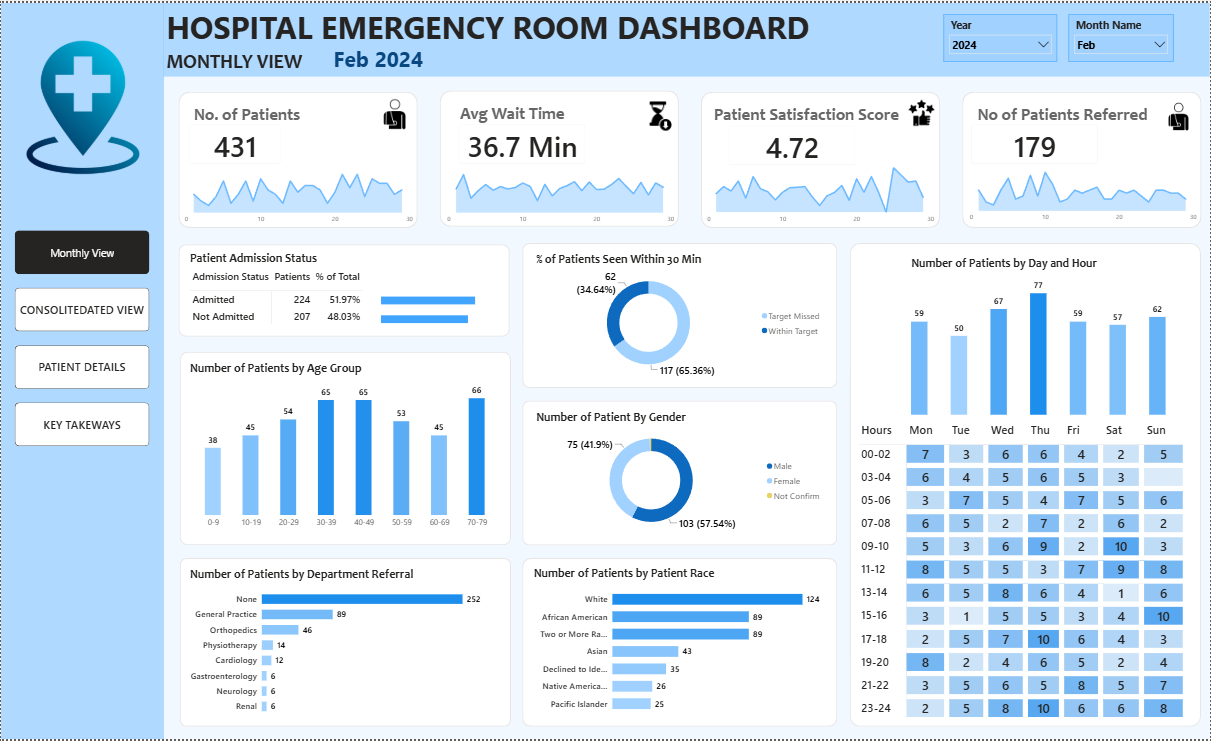

Layout of this report page (visuals, bound fields, positions):
{"tool":"powerbi","page":{"name":"Monthly View","canvas":[2300,1400],"ordinal":0},"visuals":[{"type":"shape","box":[0,0,310,1400.5],"z":0},{"type":"shape","box":[309.1,0,1990.2,140],"z":1000},{"type":"textbox","box":[309.1,0,1245.9,88],"z":2000},{"type":"textbox","box":[309.1,83.2,271.1,57.1],"z":3000},{"type":"shape","box":[337.6,168.8,455,259.2],"z":4000},{"type":"cardVisual","fields":{"Data":["Hospital data.Number of Patients"]},"box":[340,214,209.2,109.4],"z":5000},{"type":"slicer","fields":{"Values":["Date Table.Year"]},"box":[1792.8,21.4,216.4,90.4],"z":6000},{"type":"slicer","fields":{"Values":["Date Table.Month Name"]},"box":[2030.6,21.4,199.7,90.4],"z":7000},{"type":"textbox","box":[361.4,187.8,218.8,57.1],"z":8000},{"type":"areaChart","fields":{"Category":["Date Table.Date.Variation.Date Hierarchy.Day"],"Y":["Hospital data.Number of Patients"]},"box":[337.6,299.6,454.1,128.4],"z":9000},{"type":"cardVisual","fields":{"Data":["Min(Date Table.Month & Year)"]},"box":[599.2,69,237.8,71.3],"z":10000},{"type":"shape","box":[834.6,166.4,455,259.2],"z":11000},{"type":"cardVisual","fields":{"Data":["Hospital data.Avg Wait Time"]},"box":[853.6,214,275.8,109.4],"z":12000},{"type":"textbox","box":[867.9,185.5,244.9,57.1],"z":13000},{"type":"areaChart","fields":{"Category":["Date Table.Date.Variation.Date Hierarchy.Day"],"Y":["Avg(Hospital data.Patient Waittime)"]},"box":[837,299.6,451.8,128.4],"z":14000},{"type":"shape","box":[1331.5,168.8,455,259.2],"z":15000},{"type":"shape","box":[1828.5,168.8,455,259.2],"z":16000},{"type":"textbox","box":[1350.6,187.8,366.2,57.1],"z":17000},{"type":"areaChart","fields":{"Category":["Date Table.Date.Variation.Date Hierarchy.Day"],"Y":["Hospital data.Satisfaction Score"]},"box":[1331.5,299.6,451.8,128.4],"z":18000},{"type":"cardVisual","fields":{"Data":["Hospital data.Satisfaction Score"]},"box":[1367.2,216.4,275.8,109.4],"z":19000},{"type":"shape","box":[337.6,458.9,630.1,176],"z":20000},{"type":"textbox","box":[1852.3,187.8,366.2,57.1],"z":21000},{"type":"cardVisual","fields":{"Data":["Hospital data.No of Patient Referred"]},"box":[1828.5,214,275.8,109.4],"z":22000},{"type":"areaChart","fields":{"Category":["Date Table.Date.Variation.Date Hierarchy.Day"],"Y":["Hospital data.No of Patient Referred"]},"box":[1830.9,297.2,451.8,128.4],"z":23000},{"type":"pivotTable","title":"Patient Admission Status","fields":{"Rows":["Hospital data.Admission Status"],"Values":["Hospital data.Number of Patients1","Hospital data.Number of Patients"]},"box":[354.3,470.8,601.6,159.3],"z":24000},{"type":"barChart","fields":{"Category":["Hospital data.Admission Status"],"Y":["Hospital data.Number of Patients"]},"box":[718.1,527.9,249.7,107],"z":25000},{"type":"shape","box":[340,663.4,630.1,368],"z":26000},{"type":"clusteredColumnChart","fields":{"Category":["Hospital data.Age Group"],"Y":["Hospital data.Number of Patients"]},"box":[354.3,680,601.6,328.1],"z":27000},{"type":"shape","box":[340,1055.7,630.1,321],"z":28000},{"type":"clusteredBarChart","fields":{"Category":["Hospital data.Department Referral"],"Y":["Hospital data.Number of Patients"]},"box":[354.3,1072.4,601.6,292.5],"z":29000},{"type":"shape","box":[991.5,456.5,599.2,275.8],"z":30000},{"type":"donutChart","title":"% of Patients Seen Within 30 Min","fields":{"Category":["Hospital data.Waittime Stutas"],"Y":["Hospital data.No of Patient Referred"]},"box":[1012.9,473.2,558.8,242.5],"z":31000},{"type":"shape","box":[991.5,756.1,599.2,275.8],"z":32000},{"type":"donutChart","title":"Number of Patient By Gender","fields":{"Y":["Hospital data.No of Patient Referred"],"Category":["Hospital data.Patient Gender"]},"box":[1012.9,772.8,558.8,242.5],"z":33000},{"type":"shape","box":[991.5,1055.7,599.2,321],"z":34000},{"type":"clusteredBarChart","fields":{"Y":["Hospital data.Number of Patients"],"Category":["Hospital data.Patient Race"]},"box":[1008.2,1070,568.3,292.5],"z":35000},{"type":"shape","box":[1614.5,456.5,668.1,920.2],"z":36000},{"type":"pivotTable","fields":{"Rows":["Hospital data.Waittime Interval"],"Columns":["Date Table.Day Name"],"Values":["Hospital data.Number of Patients"]},"box":[1626.4,789.4,644.4,575.4],"z":37000},{"type":"columnChart","title":"Number of Patients by Day and Hour","fields":{"Category":["Date Table.Day Name"],"Y":["Hospital data.Number of Patients"]},"box":[1726.2,480.3,496.9,309.1],"z":38000},{"type":"image","box":[9.5,71.3,292.5,254.4],"z":39000},{"type":"image","box":[718.1,180.7,61.8,61.8],"z":40000},{"type":"image","box":[1219.8,185.5,69,59.4],"z":41000},{"type":"image","box":[1726.2,180.7,49.9,57.1],"z":42000},{"type":"image","box":[2197,187.8,85.6,57.1],"z":43000},{"type":"pageNavigator","box":[26.2,432.7,256.8,411.3],"z":43001}]}

Visuals, with their boxes in screenshot pixels (x1, y1, x2, y2), scaled from the page's 2300x1400 canvas onto the 1211x741 screenshot:
shape: 0 0 163 740
shape: 163 0 1210 74
textbox: 163 0 819 47
textbox: 163 44 305 74
shape: 178 89 417 227
cardVisual - Hospital data.Number of Patients: 179 113 289 171
slicer - Date Table.Year: 944 11 1058 59
slicer - Date Table.Month Name: 1069 11 1174 59
textbox: 190 99 305 130
areaChart - Date Table.Date.Variation.Date Hierarchy.Day x Hospital data.Number of Patients: 178 159 417 227
cardVisual - Min(Date Table.Month & Year): 315 37 441 74
shape: 439 88 679 225
cardVisual - Hospital data.Avg Wait Time: 449 113 595 171
textbox: 457 98 586 128
areaChart - Date Table.Date.Variation.Date Hierarchy.Day x Avg(Hospital data.Patient Waittime): 441 159 679 227
shape: 701 89 941 227
shape: 963 89 1202 227
textbox: 711 99 904 130
areaChart - Date Table.Date.Variation.Date Hierarchy.Day x Hospital data.Satisfaction Score: 701 159 939 227
cardVisual - Hospital data.Satisfaction Score: 720 115 865 172
shape: 178 243 510 336
textbox: 975 99 1168 130
cardVisual - Hospital data.No of Patient Referred: 963 113 1108 171
areaChart - Date Table.Date.Variation.Date Hierarchy.Day x Hospital data.No of Patient Referred: 964 157 1202 225
"Patient Admission Status" pivotTable: 187 249 503 334
barChart - Hospital data.Admission Status x Hospital data.Number of Patients: 378 279 510 336
shape: 179 351 511 546
clusteredColumnChart - Hospital data.Age Group x Hospital data.Number of Patients: 187 360 503 534
shape: 179 559 511 729
clusteredBarChart - Hospital data.Department Referral x Hospital data.Number of Patients: 187 568 503 722
shape: 522 242 838 388
"% of Patients Seen Within 30 Min" donutChart: 533 250 828 379
shape: 522 400 838 546
"Number of Patient By Gender" donutChart: 533 409 828 537
shape: 522 559 838 729
clusteredBarChart - Hospital data.Number of Patients x Hospital data.Patient Race: 531 566 830 721
shape: 850 242 1202 729
pivotTable - Hospital data.Waittime Interval x Date Table.Day Name: 856 418 1196 722
"Number of Patients by Day and Hour" columnChart: 909 254 1171 418
image: 5 38 159 172
image: 378 96 411 128
image: 642 98 679 130
image: 909 96 935 126
image: 1157 99 1202 130
pageNavigator: 14 229 149 447
